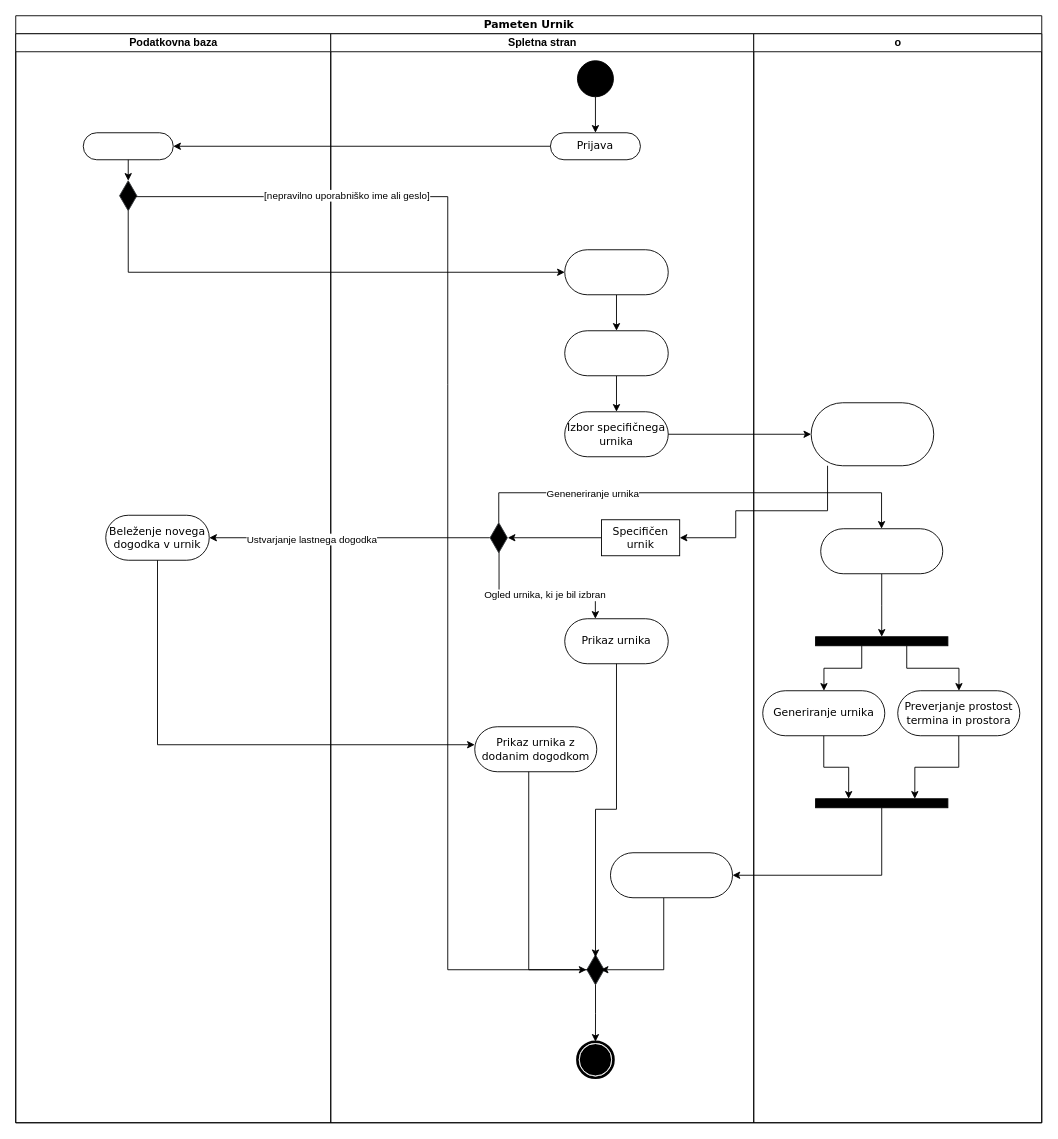
This 1058x1139 diagram has some shape labels left out. The shapes that lost their labels are listed below. From the top down, each one's centre as x and y in pixels, then its label:
At pixel 127 146: "Avtentikacija uporabnika".
At pixel 616 272: "Izbor aktivnosti na dashbord-u".
At pixel 616 353: "Pregled urnika".
At pixel 872 434: "Pridobivanje specifičnega urnika is WiseTT".
At pixel 881 551: "Generiranje urnika API".
At pixel 671 875: "Prikaz novogeneriranega urnika".
